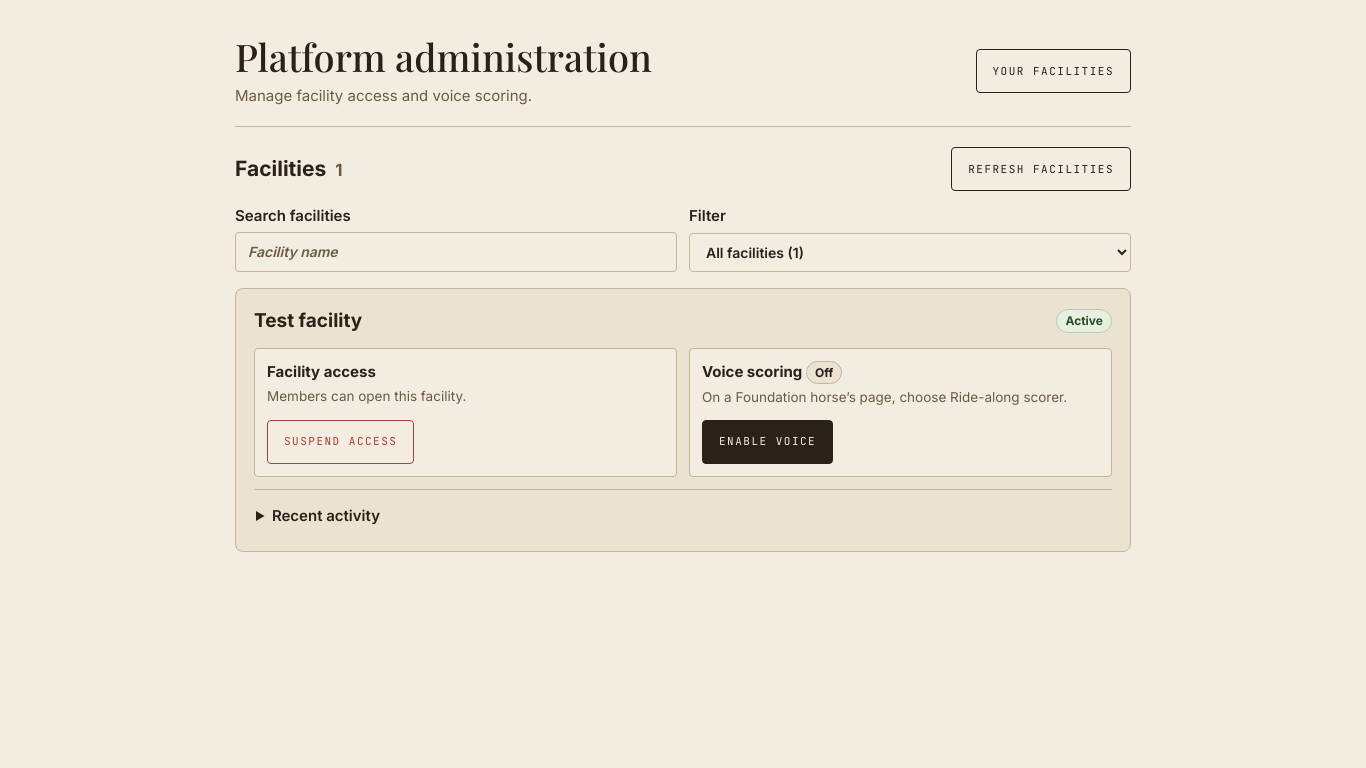
Test: requires confirmation for suspension and shows an action error on the affected facility
What coordinates should you click on to do the following:
click the button "Suspend access"
I would click on:
 (341, 442)
Its box is [267,420,414,464].
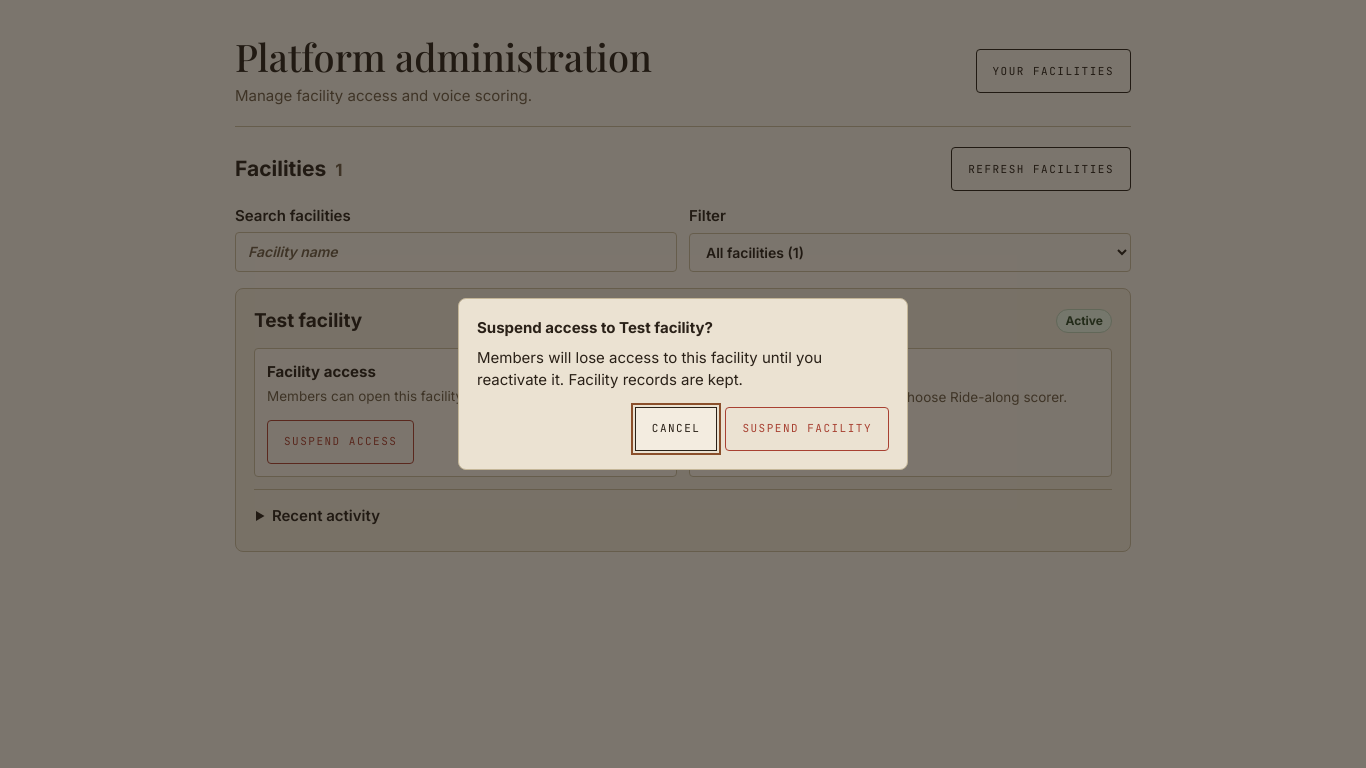
What coordinates should you click on to do the following:
click the button "Suspend facility"
I would click on:
 (807, 429)
Its box is [725,407,889,451].
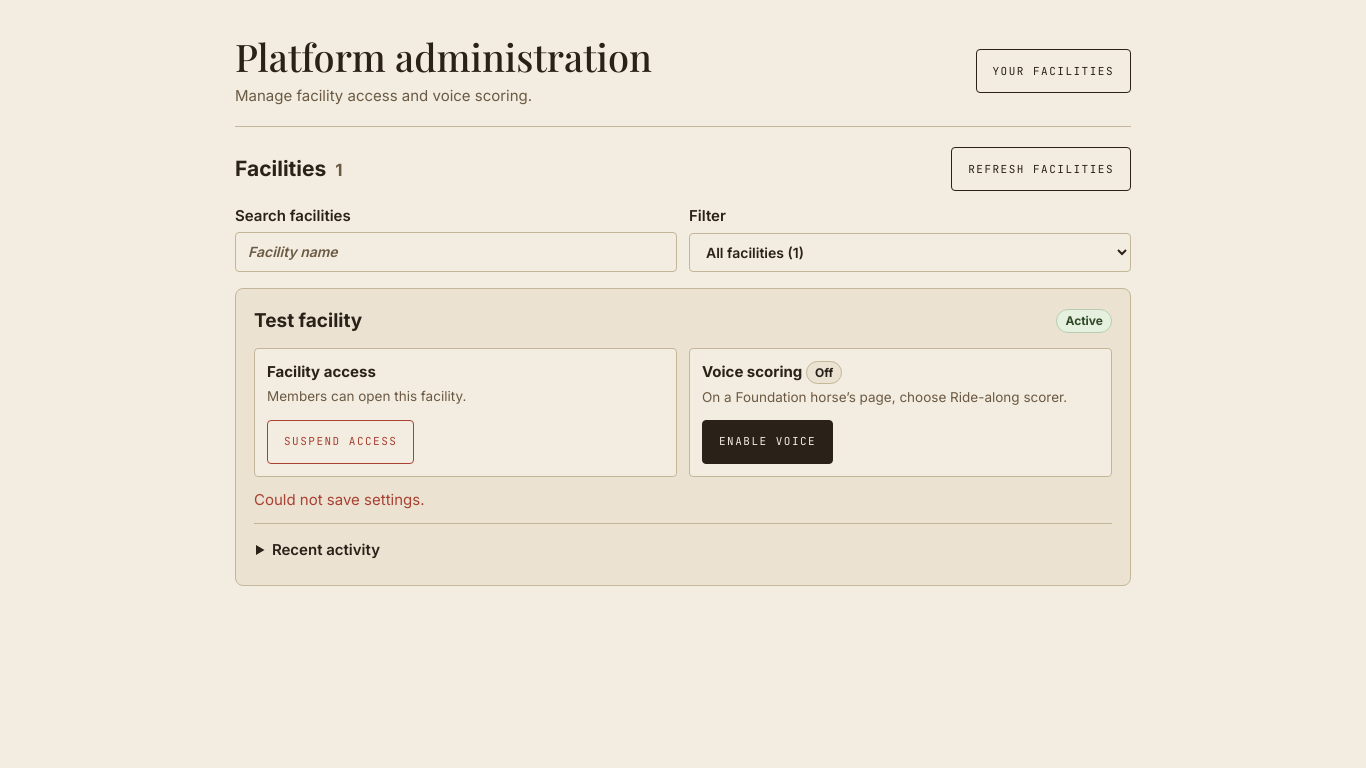
Now the message reads "Could not save settings.", box [254,490,424,509]
